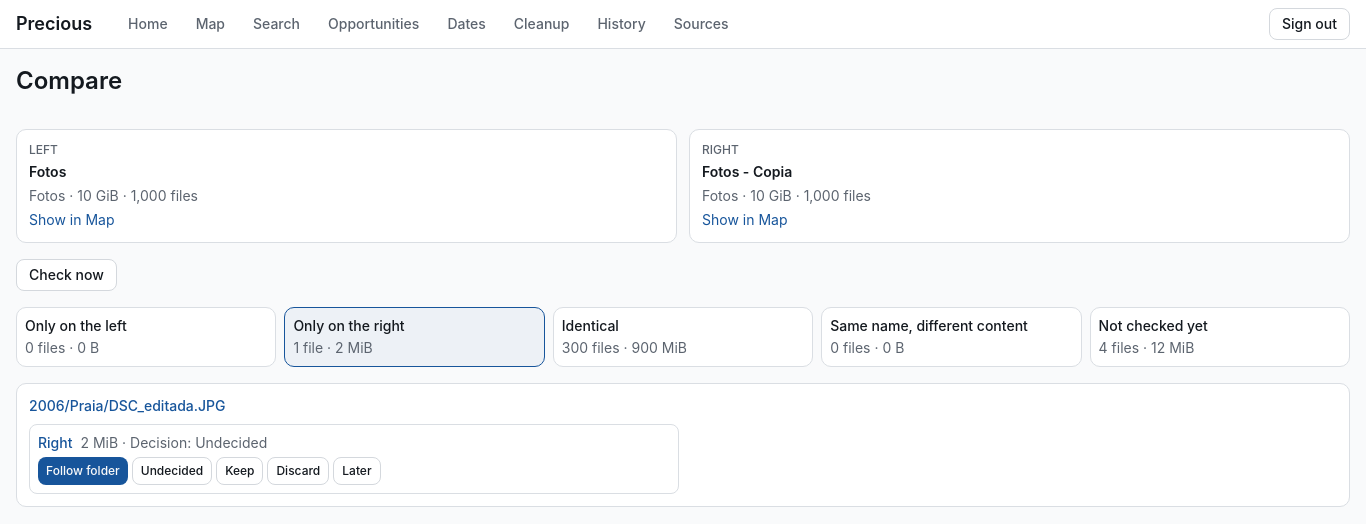
it: Compare › decides a file only on the right, and checks the two folders first
This screenshot has width=1366, height=524.
expect the list item "2006/Praia/DSC_editada.JPG" shows "2 MiB · Decision: Undecided": met, box 16,383 -> 1350,507
Click the button "Discard": (298, 471) 268,457 -> 329,485
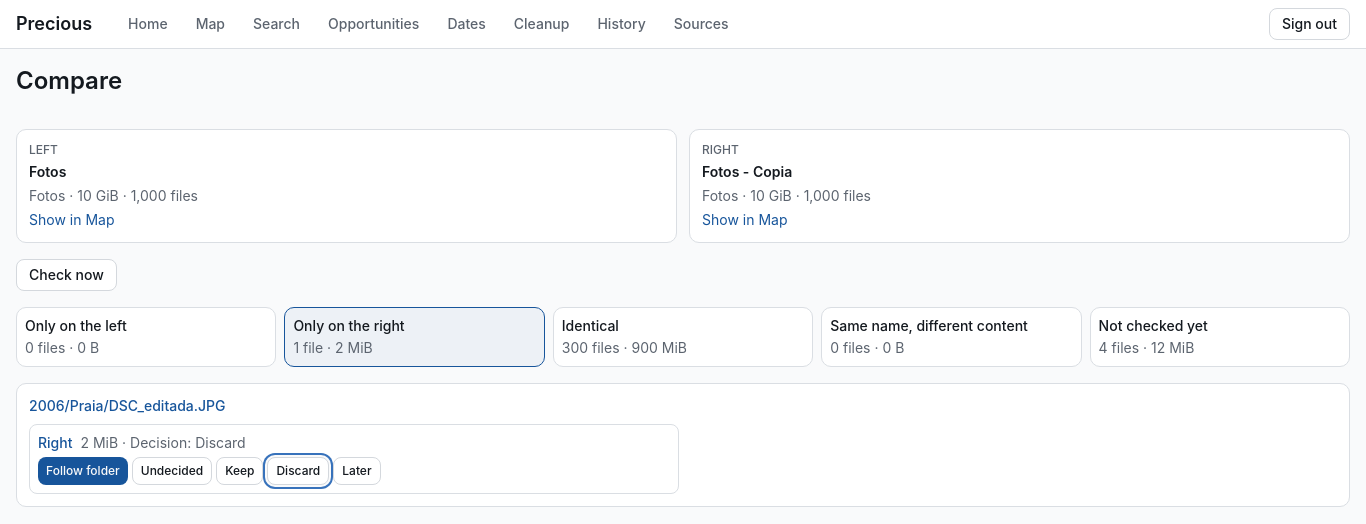
expect the text "2 MiB · Decision: Discard" is shown: met, box 80,433 -> 246,453
Click the button "Check now": (66, 275) 16,259 -> 117,291
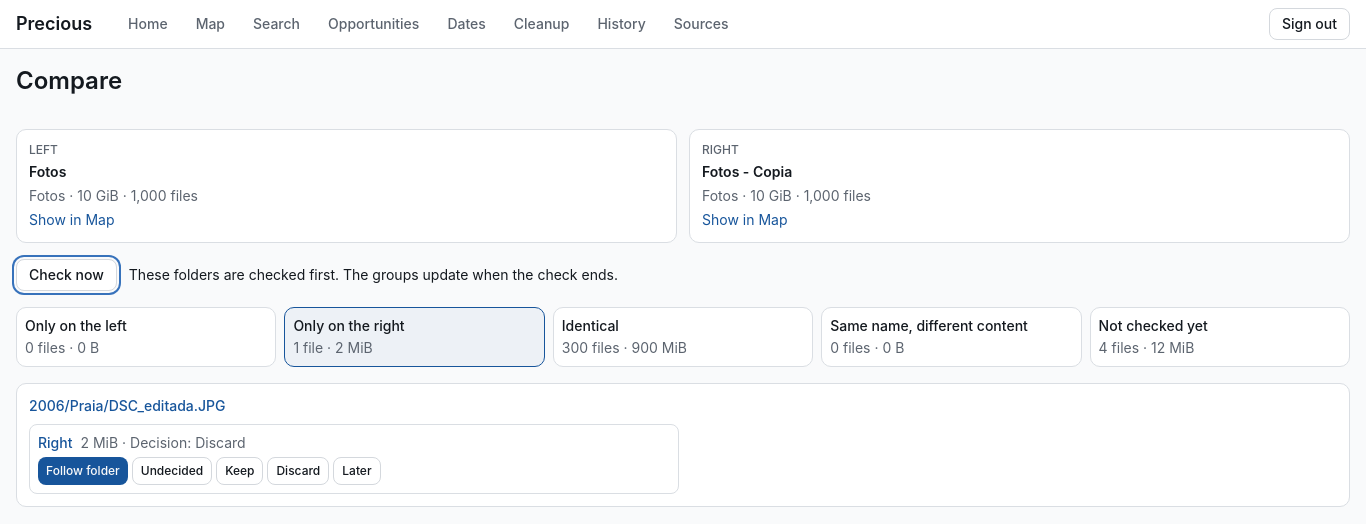
expect the text "These folders are checked first. The groups update when the check ends." is shown: met, box 129,265 -> 618,285
